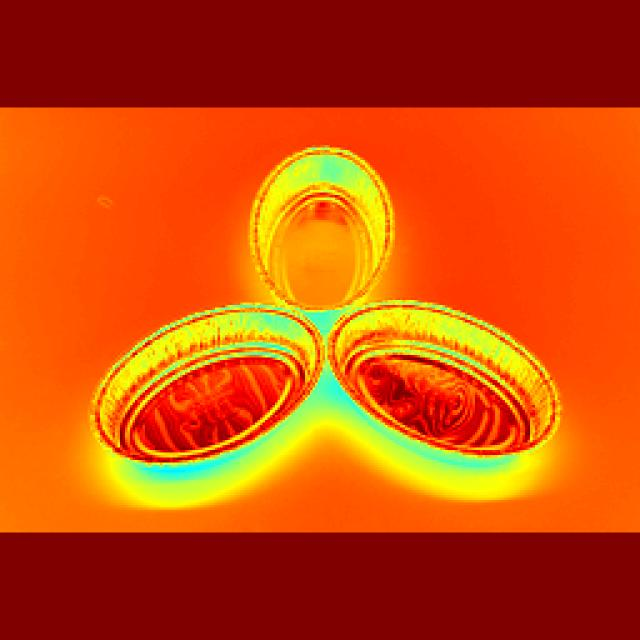Aluminium Food Cans: (325, 312, 555, 492), (127, 297, 312, 488), (252, 156, 390, 305)
